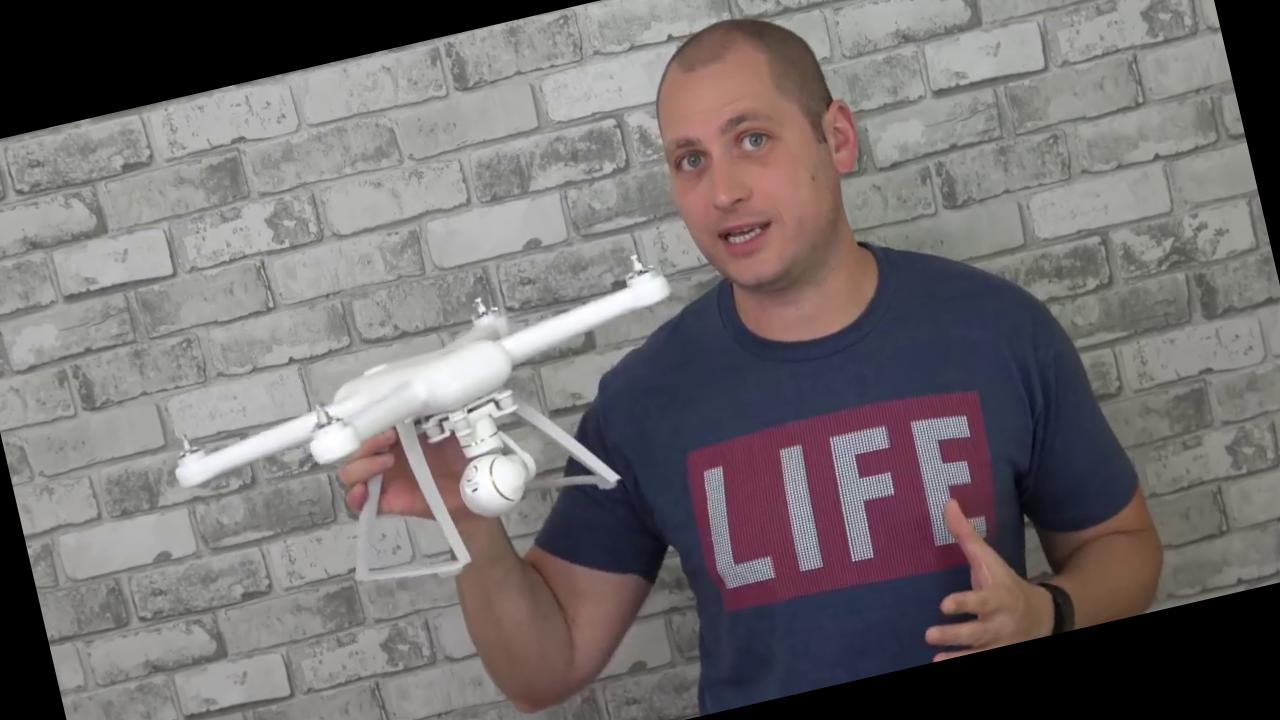drone: (142, 248, 699, 505)
